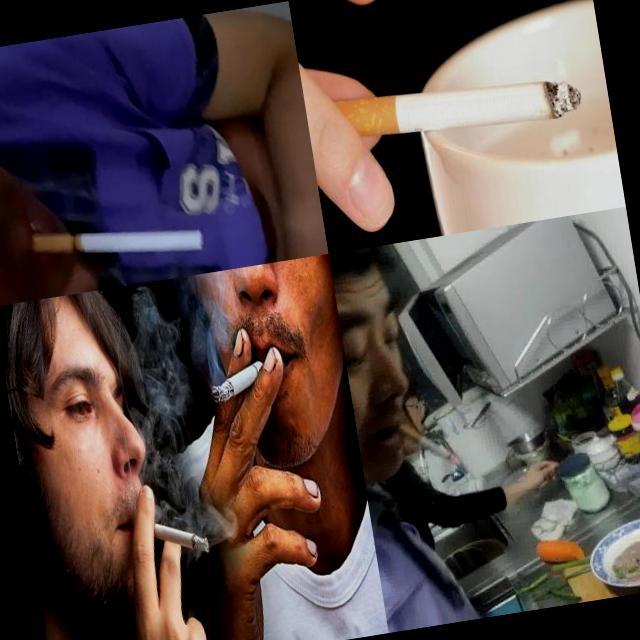smoke: (332, 61, 586, 159), (29, 208, 208, 278), (134, 506, 212, 566), (395, 411, 461, 474), (209, 359, 270, 405)
